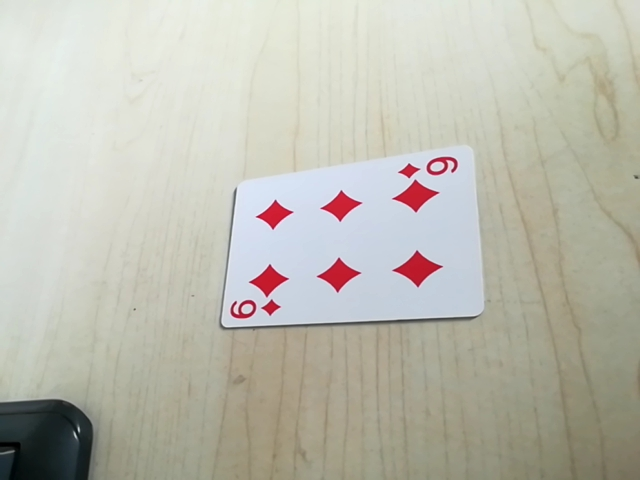fk 6: (397, 153, 464, 183), (226, 296, 284, 325)
